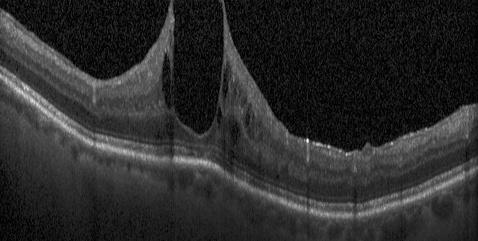intraretinal_cyst: (173, 0, 223, 135), (162, 53, 172, 110), (222, 69, 228, 98), (230, 126, 240, 143), (217, 107, 222, 128), (228, 150, 235, 160), (156, 131, 163, 139), (246, 115, 250, 126), (275, 175, 279, 179)
